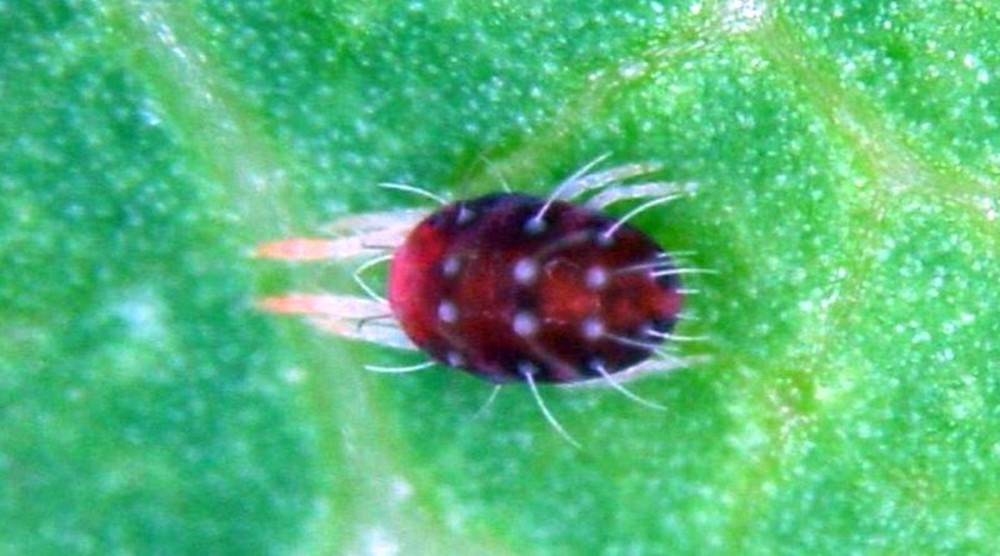Aracnido Rojo: (219, 136, 730, 445)
